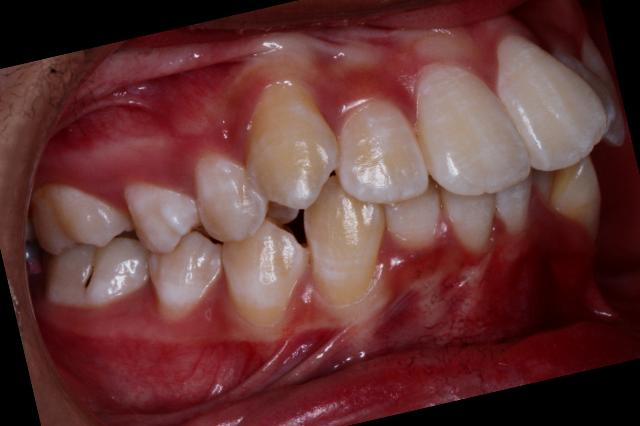canine class II 1/4: (182, 56, 406, 342)
molar class II 1/4: (15, 164, 158, 327)
